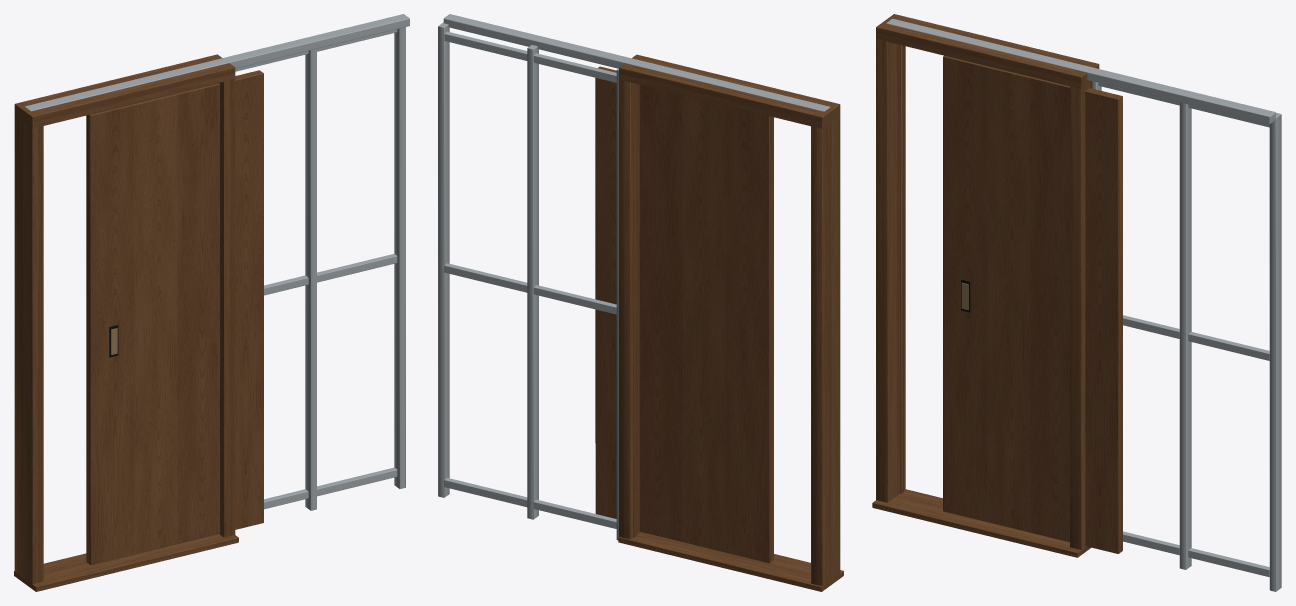
File: pocket-pocket-door-assembly.glb
3 views of the same model, side by side, from view 1: azimuth 30°, elevation 25°; view 2: azimuth 150°, elevation 25°; view 3: azimuth 330°, elevation 25° (orthographic).
Visible parts, largest first — view 1: Pocket | sliding timber leaf, Frame | jamb, Frame | jamb.001, Pocket | steel stud.002, Pocket | steel stud.001, Frame | header, Pocket | continuous head track, Frame | sill, Pocket | horizontal stiffener.001, Pocket | horizontal stiffener, Pocket | horizontal stiffener.002; view 2: Pocket | sliding timber leaf, Frame | jamb, Frame | jamb.001, Pocket | steel stud.001, Pocket | steel stud.002, Frame | header, Pocket | continuous head track, Frame | sill, Frame | door stop.001, Pocket | horizontal stiffener.001, Pocket | horizontal stiffener.002, Pocket | horizontal stiffener (+1 smaller); view 3: Pocket | sliding timber leaf, Frame | jamb, Frame | jamb.001, Pocket | steel stud.002, Pocket | steel stud.001, Frame | header, Pocket | continuous head track, Frame | sill, Frame | door stop, Pocket | horizontal stiffener, Pocket | horizontal stiffener.001, Pocket | horizontal stiffener.002.
Boxes of the visible parts, x1,y1,x2,y2 form: Pocket | sliding timber leaf: (86, 70, 263, 564); Frame | jamb: (14, 101, 43, 584); Frame | jamb.001: (207, 54, 235, 537); Pocket | steel stud.002: (394, 27, 405, 488); Pocket | steel stud.001: (305, 49, 316, 510); Frame | header: (14, 55, 235, 128); Pocket | continuous head track: (25, 14, 409, 111); Frame | sill: (14, 534, 238, 591); Pocket | horizontal stiffener.001: (264, 253, 397, 295); Pocket | horizontal stiffener: (264, 467, 397, 509); Pocket | horizontal stiffener.002: (235, 29, 397, 71); Pocket | sliding timber leaf: (595, 66, 773, 563); Frame | jamb: (811, 101, 840, 586); Frame | jamb.001: (619, 54, 646, 539); Pocket | steel stud.001: (527, 45, 538, 519); Pocket | steel stud.002: (438, 22, 449, 497); Frame | header: (619, 55, 840, 128); Pocket | continuous head track: (443, 14, 830, 111); Frame | sill: (618, 532, 843, 591); Frame | door stop.001: (633, 83, 636, 537); Pocket | horizontal stiffener.001: (444, 263, 616, 314); Pocket | horizontal stiffener.002: (444, 31, 616, 82); Pocket | horizontal stiffener: (444, 478, 616, 528); Pocket | sliding timber leaf: (943, 55, 1122, 553); Frame | jamb: (876, 14, 905, 502); Frame | jamb.001: (1070, 61, 1098, 552); Pocket | steel stud.002: (1269, 112, 1281, 591); Pocket | steel stud.001: (1179, 102, 1191, 569); Frame | header: (876, 16, 1099, 88); Pocket | continuous head track: (886, 18, 1275, 124); Frame | sill: (872, 489, 1089, 557); Frame | door stop: (900, 45, 903, 493); Pocket | horizontal stiffener: (1123, 531, 1269, 577); Pocket | horizontal stiffener.001: (1123, 315, 1269, 360); Pocket | horizontal stiffener.002: (1098, 82, 1269, 127).
Size of the model in its own units: 1.82 by 2.14 by 0.182.
5 materials, 5 textured.
